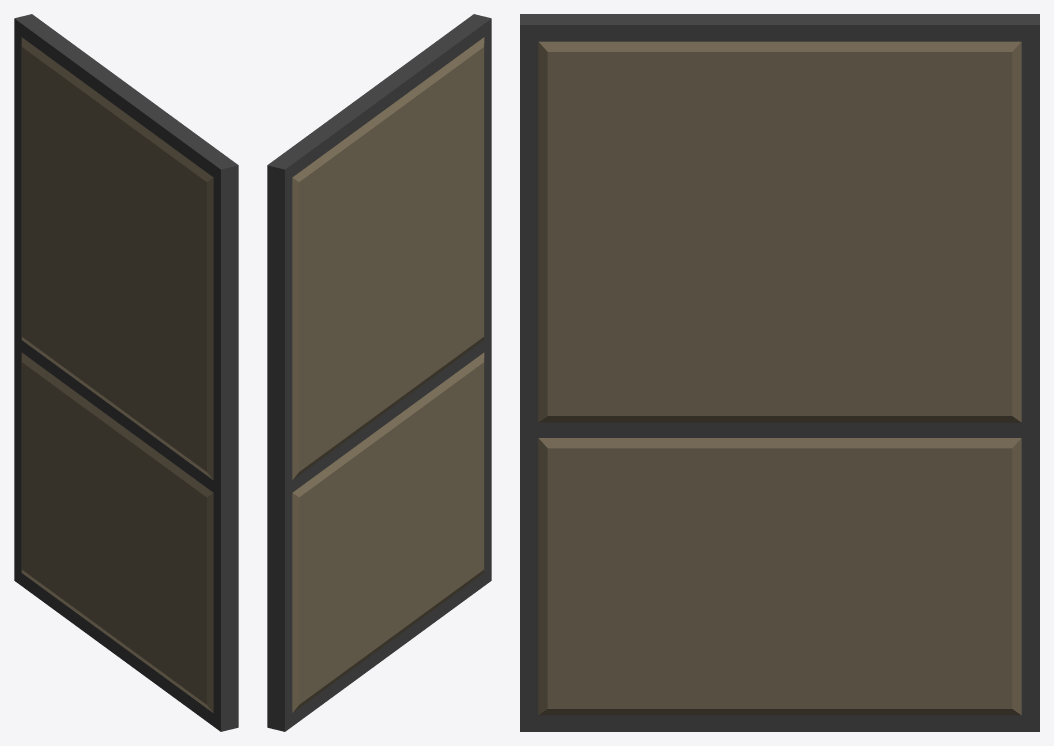
The model's file is Cubical_Wall_001.FBX.
The picture shows the model from 3 angles, left to right: view 1: azimuth 30°, elevation 25°; view 2: azimuth 150°, elevation 25°; view 3: azimuth 270°, elevation 25°; orthographic projection. The views are drawn at different scales.
Visible parts, largest first — view 1: Cubical_Wall_001; view 2: Cubical_Wall_001; view 3: Cubical_Wall_001.
Part boxes in pixels (x1,y1,x2,y2): Cubical_Wall_001: (14, 14, 238, 731); Cubical_Wall_001: (267, 14, 491, 731); Cubical_Wall_001: (520, 14, 1039, 731).
Size of the model in its own units: 0.0764 by 1.7 by 1.13.
